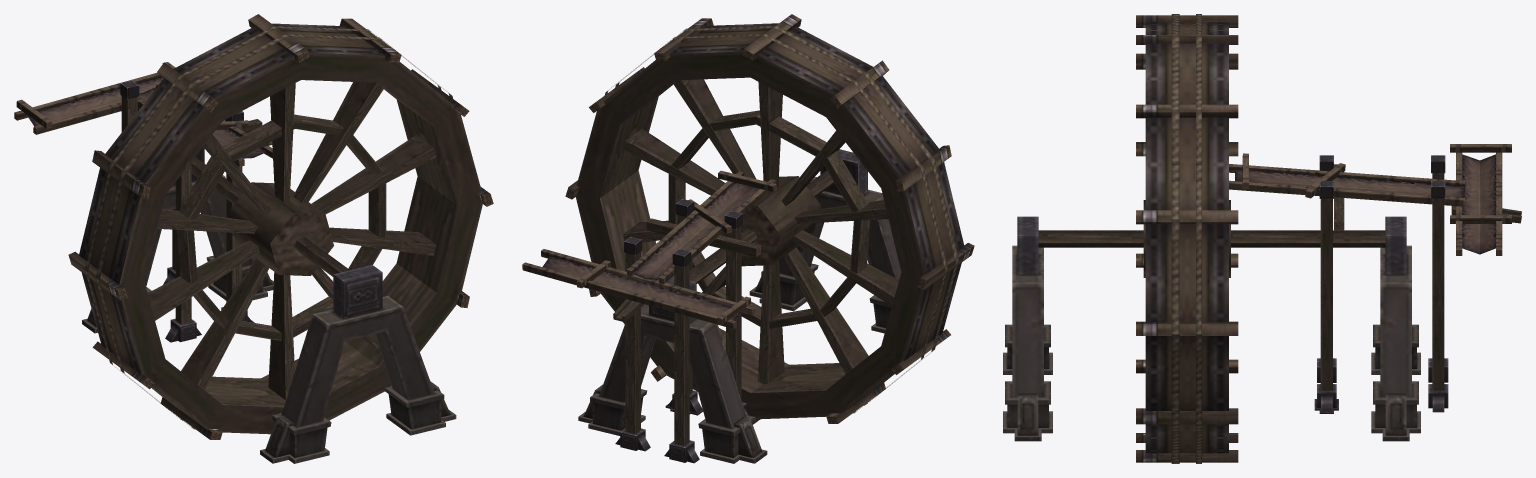
The model's file is 2_DXSD_DaShuiChe_01.FBX.
The picture shows the model from 3 angles, left to right: view 1: azimuth 30°, elevation 25°; view 2: azimuth 150°, elevation 25°; view 3: azimuth 270°, elevation 25°; orthographic projection. The views are drawn at different scales.
Parts seen in each view (by area): view 1: 2_DXSD_DaShuiChe_01, 2_DXSD_DaShuiChe_02, 2_DXSD_DaShuiChe_03, 2_DXSD_DaShuiChe_04; view 2: 2_DXSD_DaShuiChe_01, 2_DXSD_DaShuiChe_02, 2_DXSD_DaShuiChe_03, 2_DXSD_DaShuiChe_04; view 3: 2_DXSD_DaShuiChe_01, 2_DXSD_DaShuiChe_02, 2_DXSD_DaShuiChe_03, 2_DXSD_DaShuiChe_04.
Boxes of the visible parts, bbox=[...] form: 2_DXSD_DaShuiChe_01: bbox=[68, 14, 493, 439]; 2_DXSD_DaShuiChe_02: bbox=[82, 147, 456, 463]; 2_DXSD_DaShuiChe_03: bbox=[120, 80, 272, 342]; 2_DXSD_DaShuiChe_04: bbox=[14, 62, 175, 134]; 2_DXSD_DaShuiChe_01: bbox=[565, 14, 974, 424]; 2_DXSD_DaShuiChe_02: bbox=[578, 149, 901, 463]; 2_DXSD_DaShuiChe_03: bbox=[615, 170, 776, 463]; 2_DXSD_DaShuiChe_04: bbox=[522, 249, 755, 328]; 2_DXSD_DaShuiChe_01: bbox=[1136, 14, 1238, 463]; 2_DXSD_DaShuiChe_02: bbox=[1003, 216, 1420, 441]; 2_DXSD_DaShuiChe_03: bbox=[1229, 153, 1464, 413]; 2_DXSD_DaShuiChe_04: bbox=[1450, 144, 1521, 255].
Bounding box in the file's own units: 934 × 934 × 1073.
